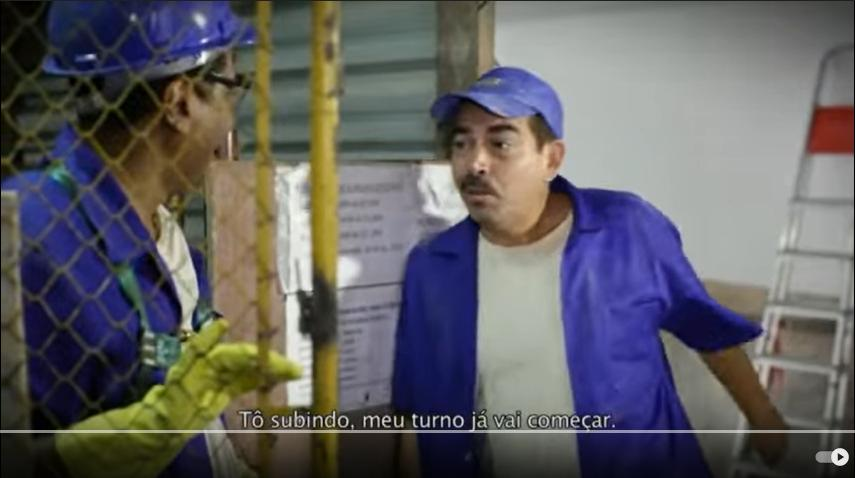helmet: (39, 0, 270, 196)
not_helmet: (427, 65, 569, 232)
not_reflective: (390, 196, 761, 478), (0, 146, 255, 478)
